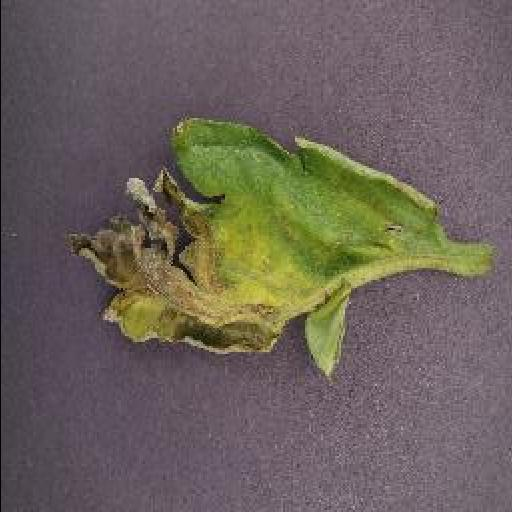disease_tomato: (66, 114, 450, 382)
